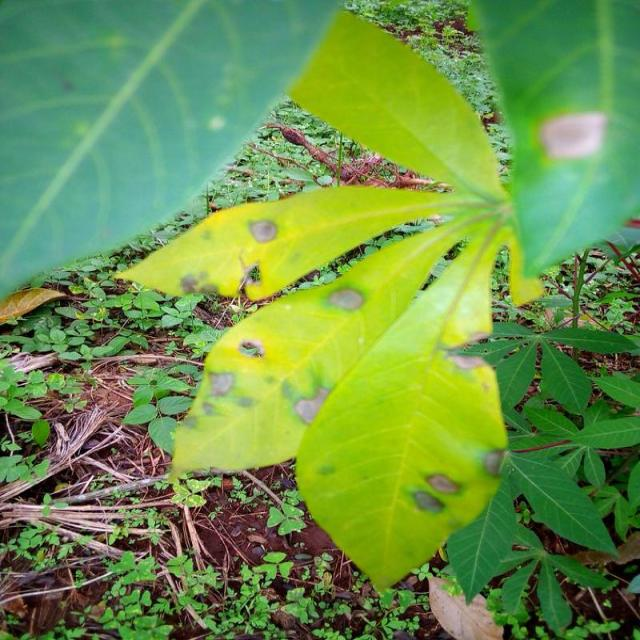cassava leaf: (112, 1, 639, 593), (2, 0, 347, 301), (294, 226, 510, 594), (467, 0, 640, 305)
